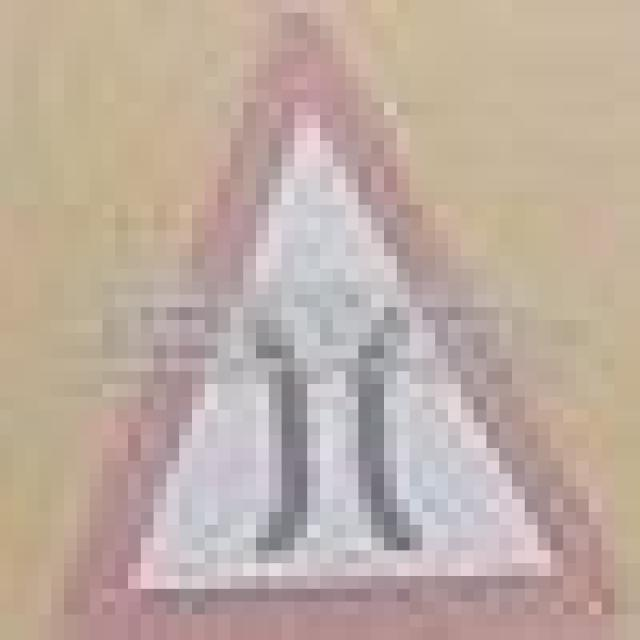narrow bridge ahead: (54, 29, 609, 615)
